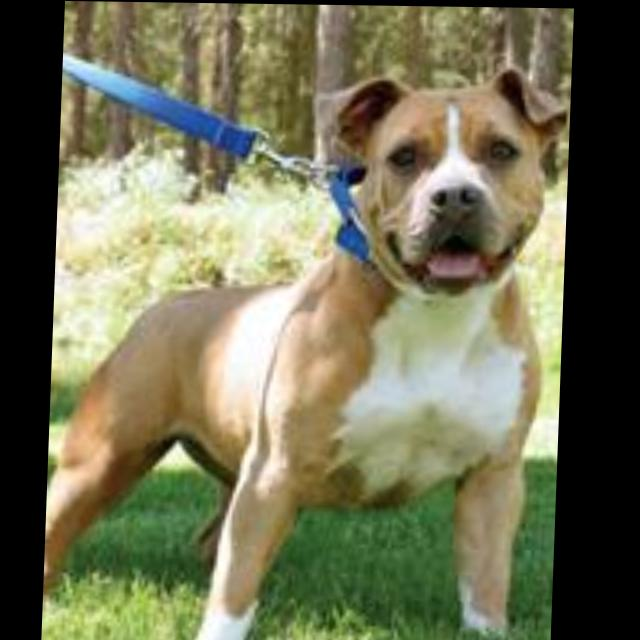staffford: (48, 58, 574, 640)
